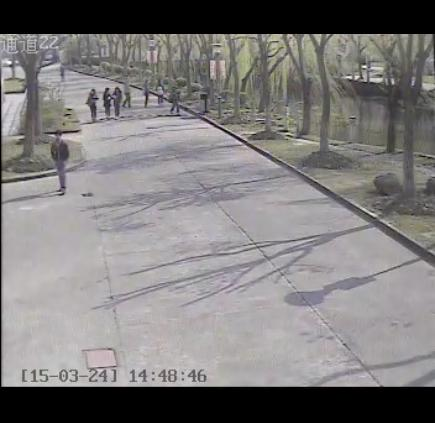person: (47, 126, 72, 198), (84, 84, 101, 124), (100, 84, 115, 122), (120, 72, 134, 110), (111, 83, 122, 122), (141, 77, 152, 111), (154, 78, 166, 106)
